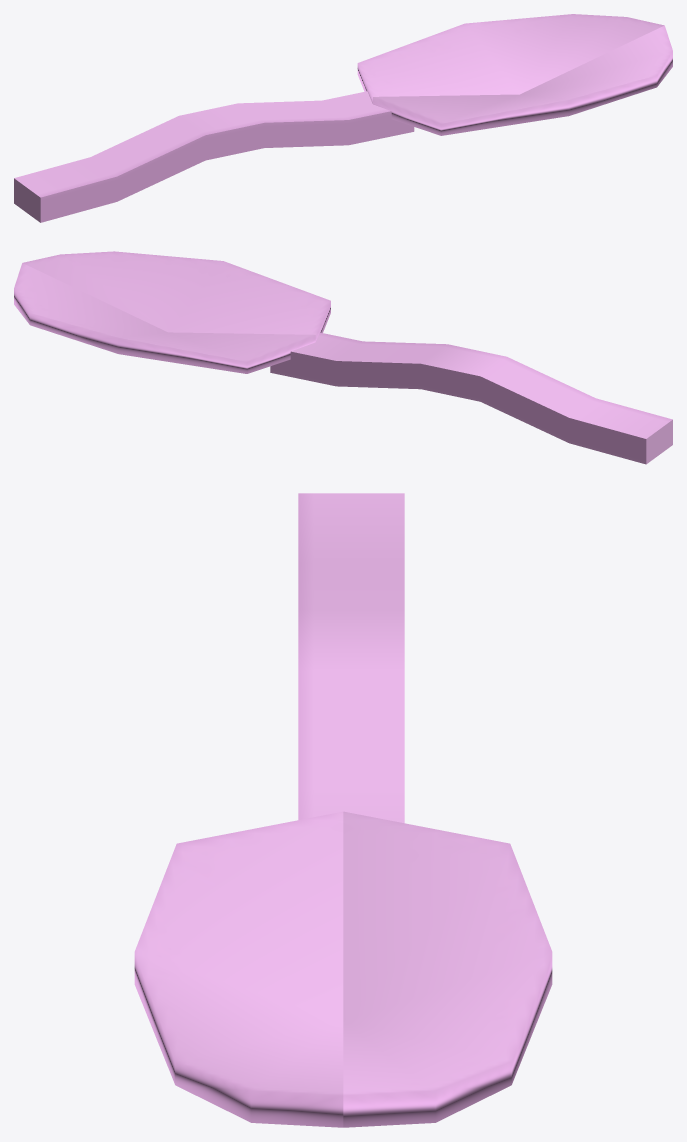
Rendered from toy_shovel.DAE.
3 views of the same model, one above another, from view 1: azimuth 30°, elevation 25°; view 2: azimuth 150°, elevation 25°; view 3: azimuth 270°, elevation 25° (orthographic). The views are drawn at different scales.
Visible parts, largest first — view 1: toy_shovel; view 2: toy_shovel; view 3: toy_shovel.
Part boxes in pixels (<box>): toy_shovel: <box>14,14,672,222</box>; toy_shovel: <box>14,251,672,464</box>; toy_shovel: <box>134,493,552,1127</box>.
Bounding box in the file's own units: 322 × 91.79 × 33.13.
1 material, 1 textured.
